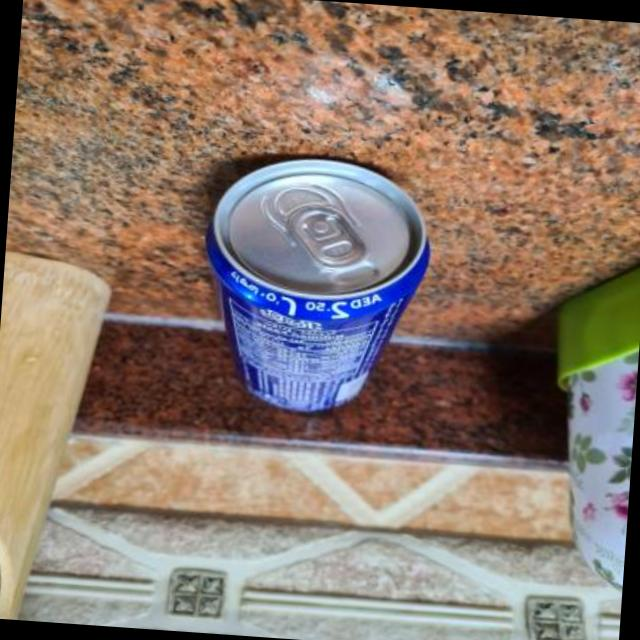metal: (203, 160, 425, 411)
